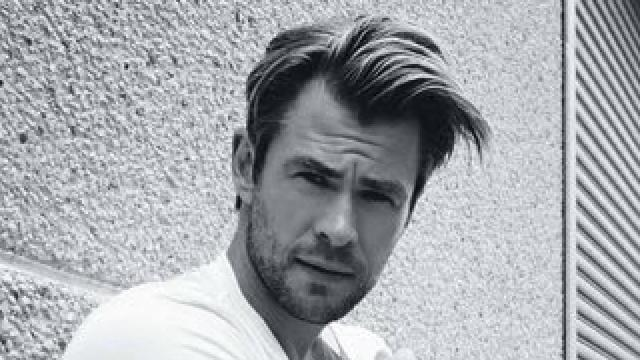forehead: (328, 131, 380, 163)
frown_line: (348, 166, 360, 186)
